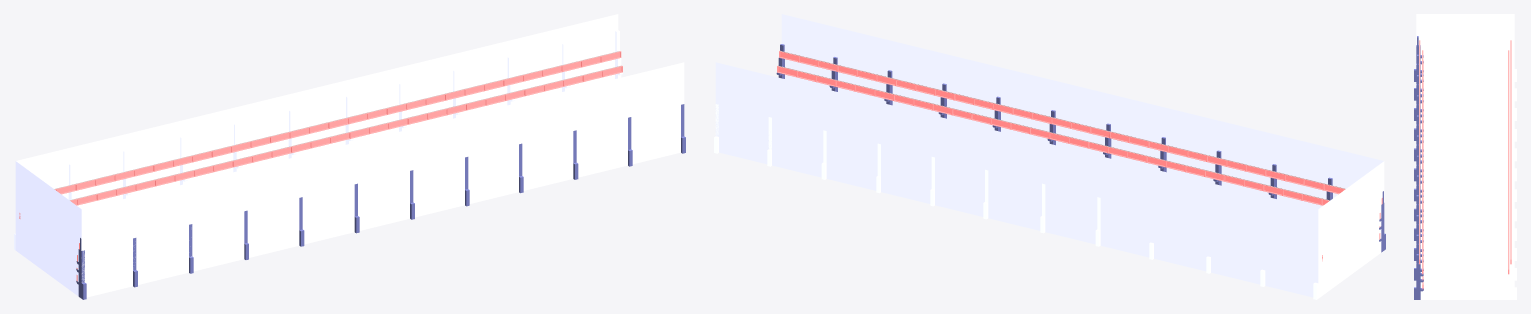
The model's file is 5p_2bay.glb.
3 renders of one model, left to right at view 1: azimuth 30°, elevation 25°; view 2: azimuth 150°, elevation 25°; view 3: azimuth 270°, elevation 25°, orthographic. The views are drawn at different scales.
Visible parts, largest first — view 1: 5P_2Bay, 5P_2Bay_Rail017, 5P_2Bay_Rail018, 5P_2Bay_Pillar007, 5P_2Bay_Pillar008, 5P_2Bay_Rail01_s003, 5P_2Bay_Rail02_s005; view 2: 5P_2Bay, 5P_2Bay_Rail015, 5P_2Bay_Rail016, 5P_2Bay_Pillar008, 5P_2Bay_Pillar007, 5P_2Bay_Rail01_s003, 5P_2Bay_Rail02_s005; view 3: 5P_2Bay, 5P_2Bay_Pillar008, 5P_2Bay_Pillar007, 5P_2Bay_Rail017, 5P_2Bay_Rail015, 5P_2Bay_Rail016, 5P_2Bay_Rail018, 5P_2Bay_Rail020.
Part boxes in pixels (bbox=[...]): 5P_2Bay: bbox=[15, 14, 684, 297]; 5P_2Bay_Rail017: bbox=[55, 51, 621, 194]; 5P_2Bay_Rail018: bbox=[19, 65, 622, 218]; 5P_2Bay_Pillar007: bbox=[76, 104, 685, 299]; 5P_2Bay_Pillar008: bbox=[14, 30, 622, 250]; 5P_2Bay_Rail01_s003: bbox=[54, 51, 619, 189]; 5P_2Bay_Rail02_s005: bbox=[70, 66, 620, 200]; 5P_2Bay: bbox=[715, 14, 1384, 298]; 5P_2Bay_Rail015: bbox=[779, 50, 1382, 204]; 5P_2Bay_Rail016: bbox=[777, 65, 1380, 218]; 5P_2Bay_Pillar008: bbox=[714, 104, 1318, 299]; 5P_2Bay_Pillar007: bbox=[776, 44, 1385, 252]; 5P_2Bay_Rail01_s003: bbox=[781, 51, 1345, 188]; 5P_2Bay_Rail02_s005: bbox=[779, 66, 1329, 200]; 5P_2Bay: bbox=[1416, 14, 1514, 299]; 5P_2Bay_Pillar008: bbox=[1507, 26, 1516, 299]; 5P_2Bay_Pillar007: bbox=[1414, 36, 1423, 299]; 5P_2Bay_Rail017: bbox=[1510, 40, 1511, 264]; 5P_2Bay_Rail015: bbox=[1419, 40, 1420, 264]; 5P_2Bay_Rail016: bbox=[1422, 50, 1423, 274]; 5P_2Bay_Rail018: bbox=[1508, 50, 1509, 274]; 5P_2Bay_Rail020: bbox=[1422, 60, 1423, 289].
Bounding box in the file's own units: 255 × 36.17 × 50.58.
